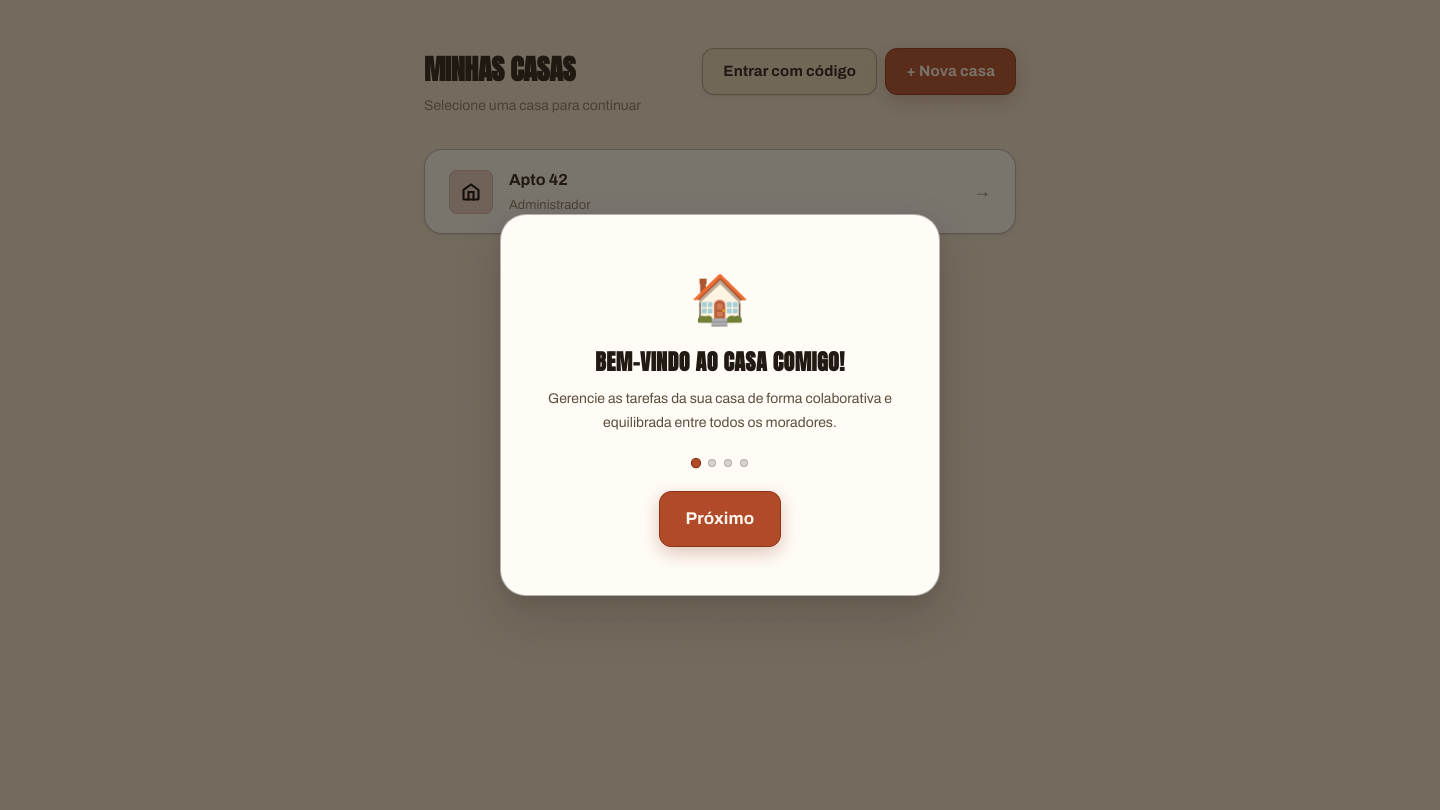
Test: Houses page — onboarding overlay › silently handles advanceOnboarding failure and marks onboarding complete
The width and height of the screenshot is (1440, 810).
Click the button "Próximo": (720, 519) [659,491,781,547]
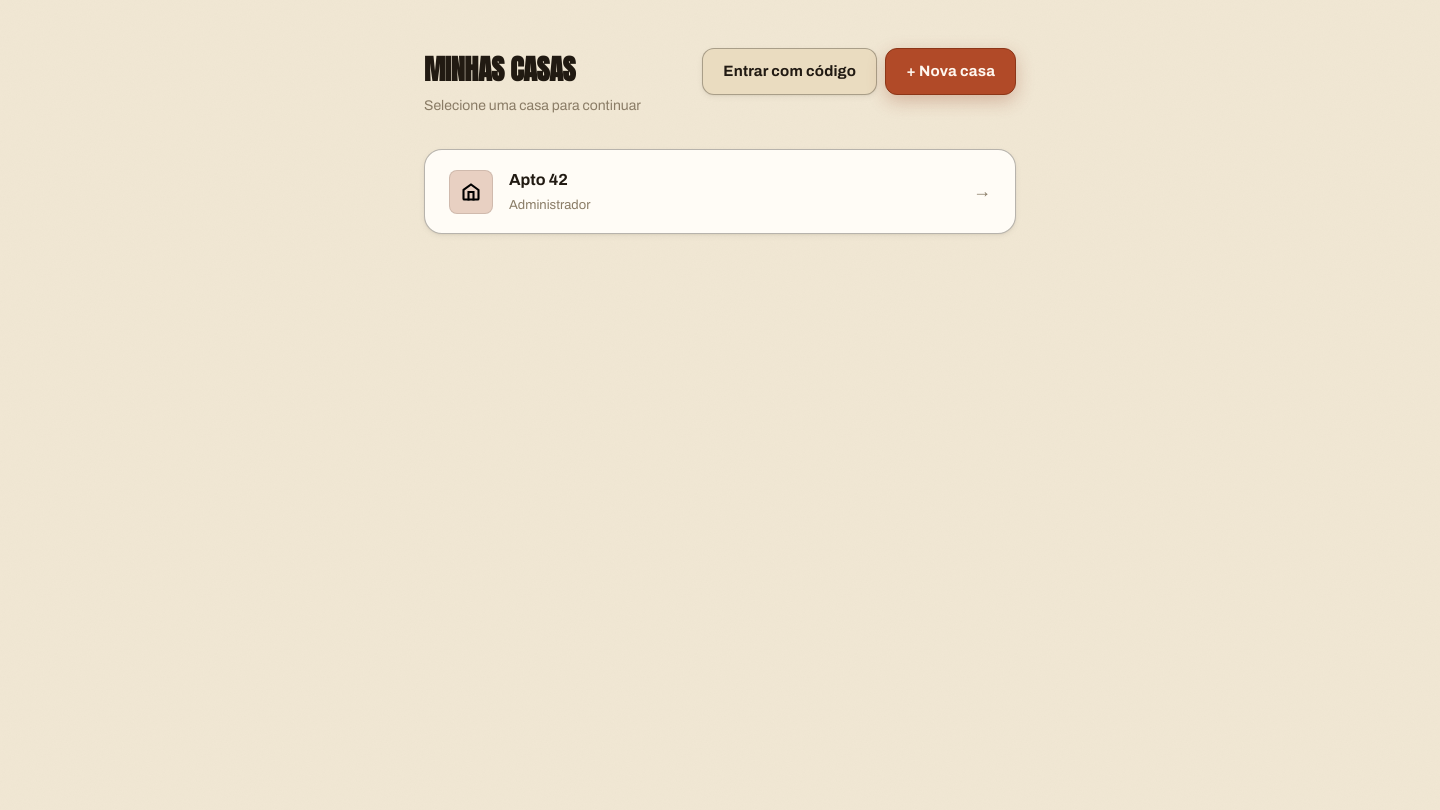
expect the heading "Bem-vindo ao Casa Comigo!" is gone: met
